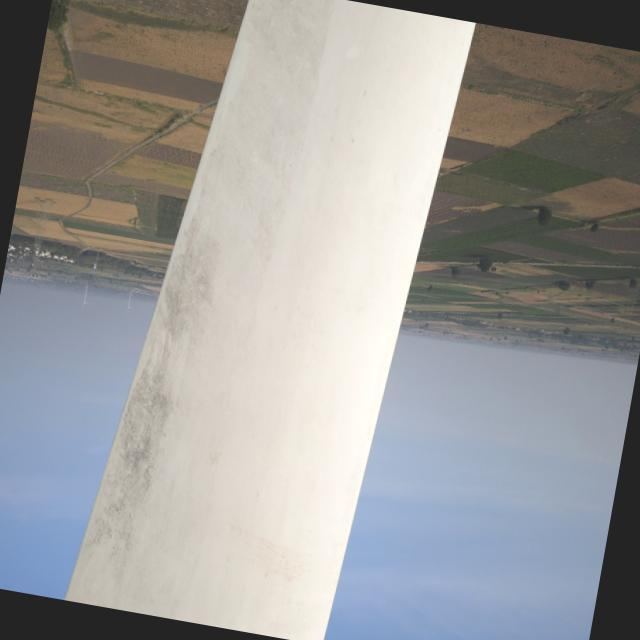Dirt: (72, 215, 227, 620)
